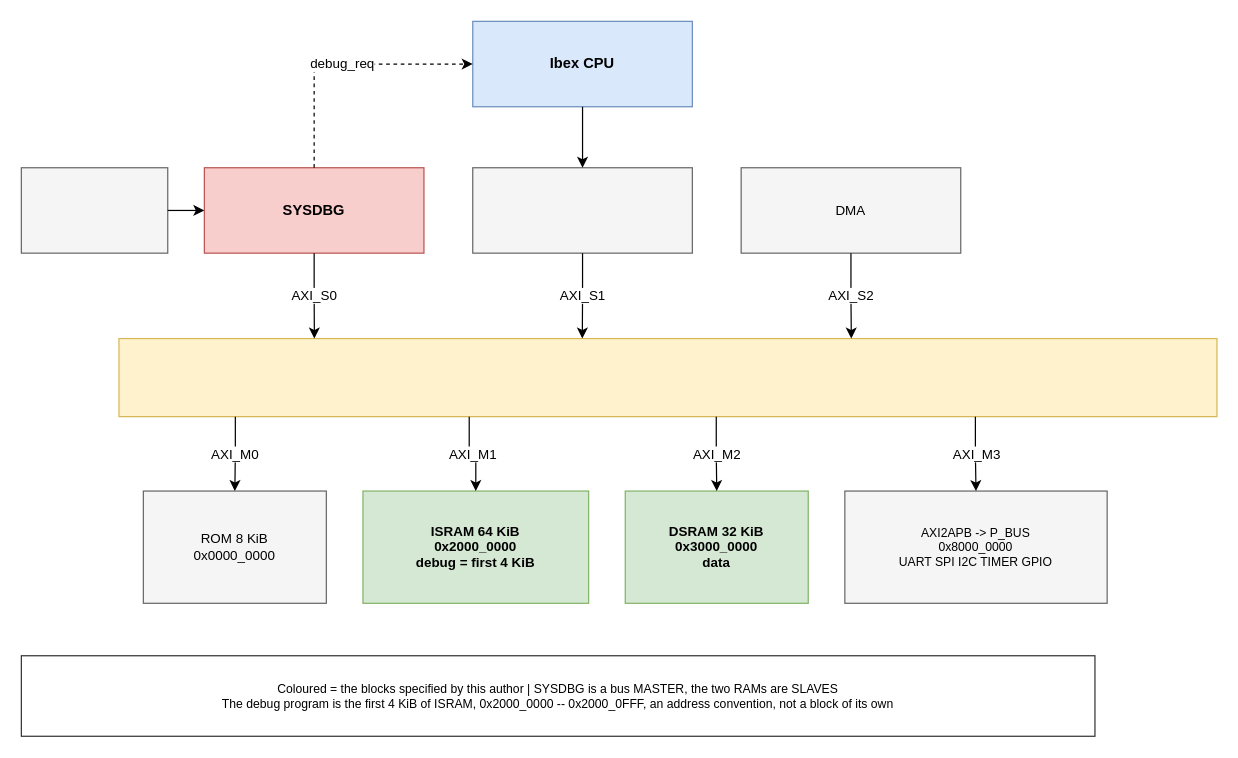
Image size: 1238x758. Some labels were removed from this diagram. Each missing label, with the centre of its shape:
"CPU2AXI" belongs at (582,210).
"JTAG pads TCK TMS TDI TDO" belongs at (94,210).
"S_BUS (AXI)" belongs at (667,377).
